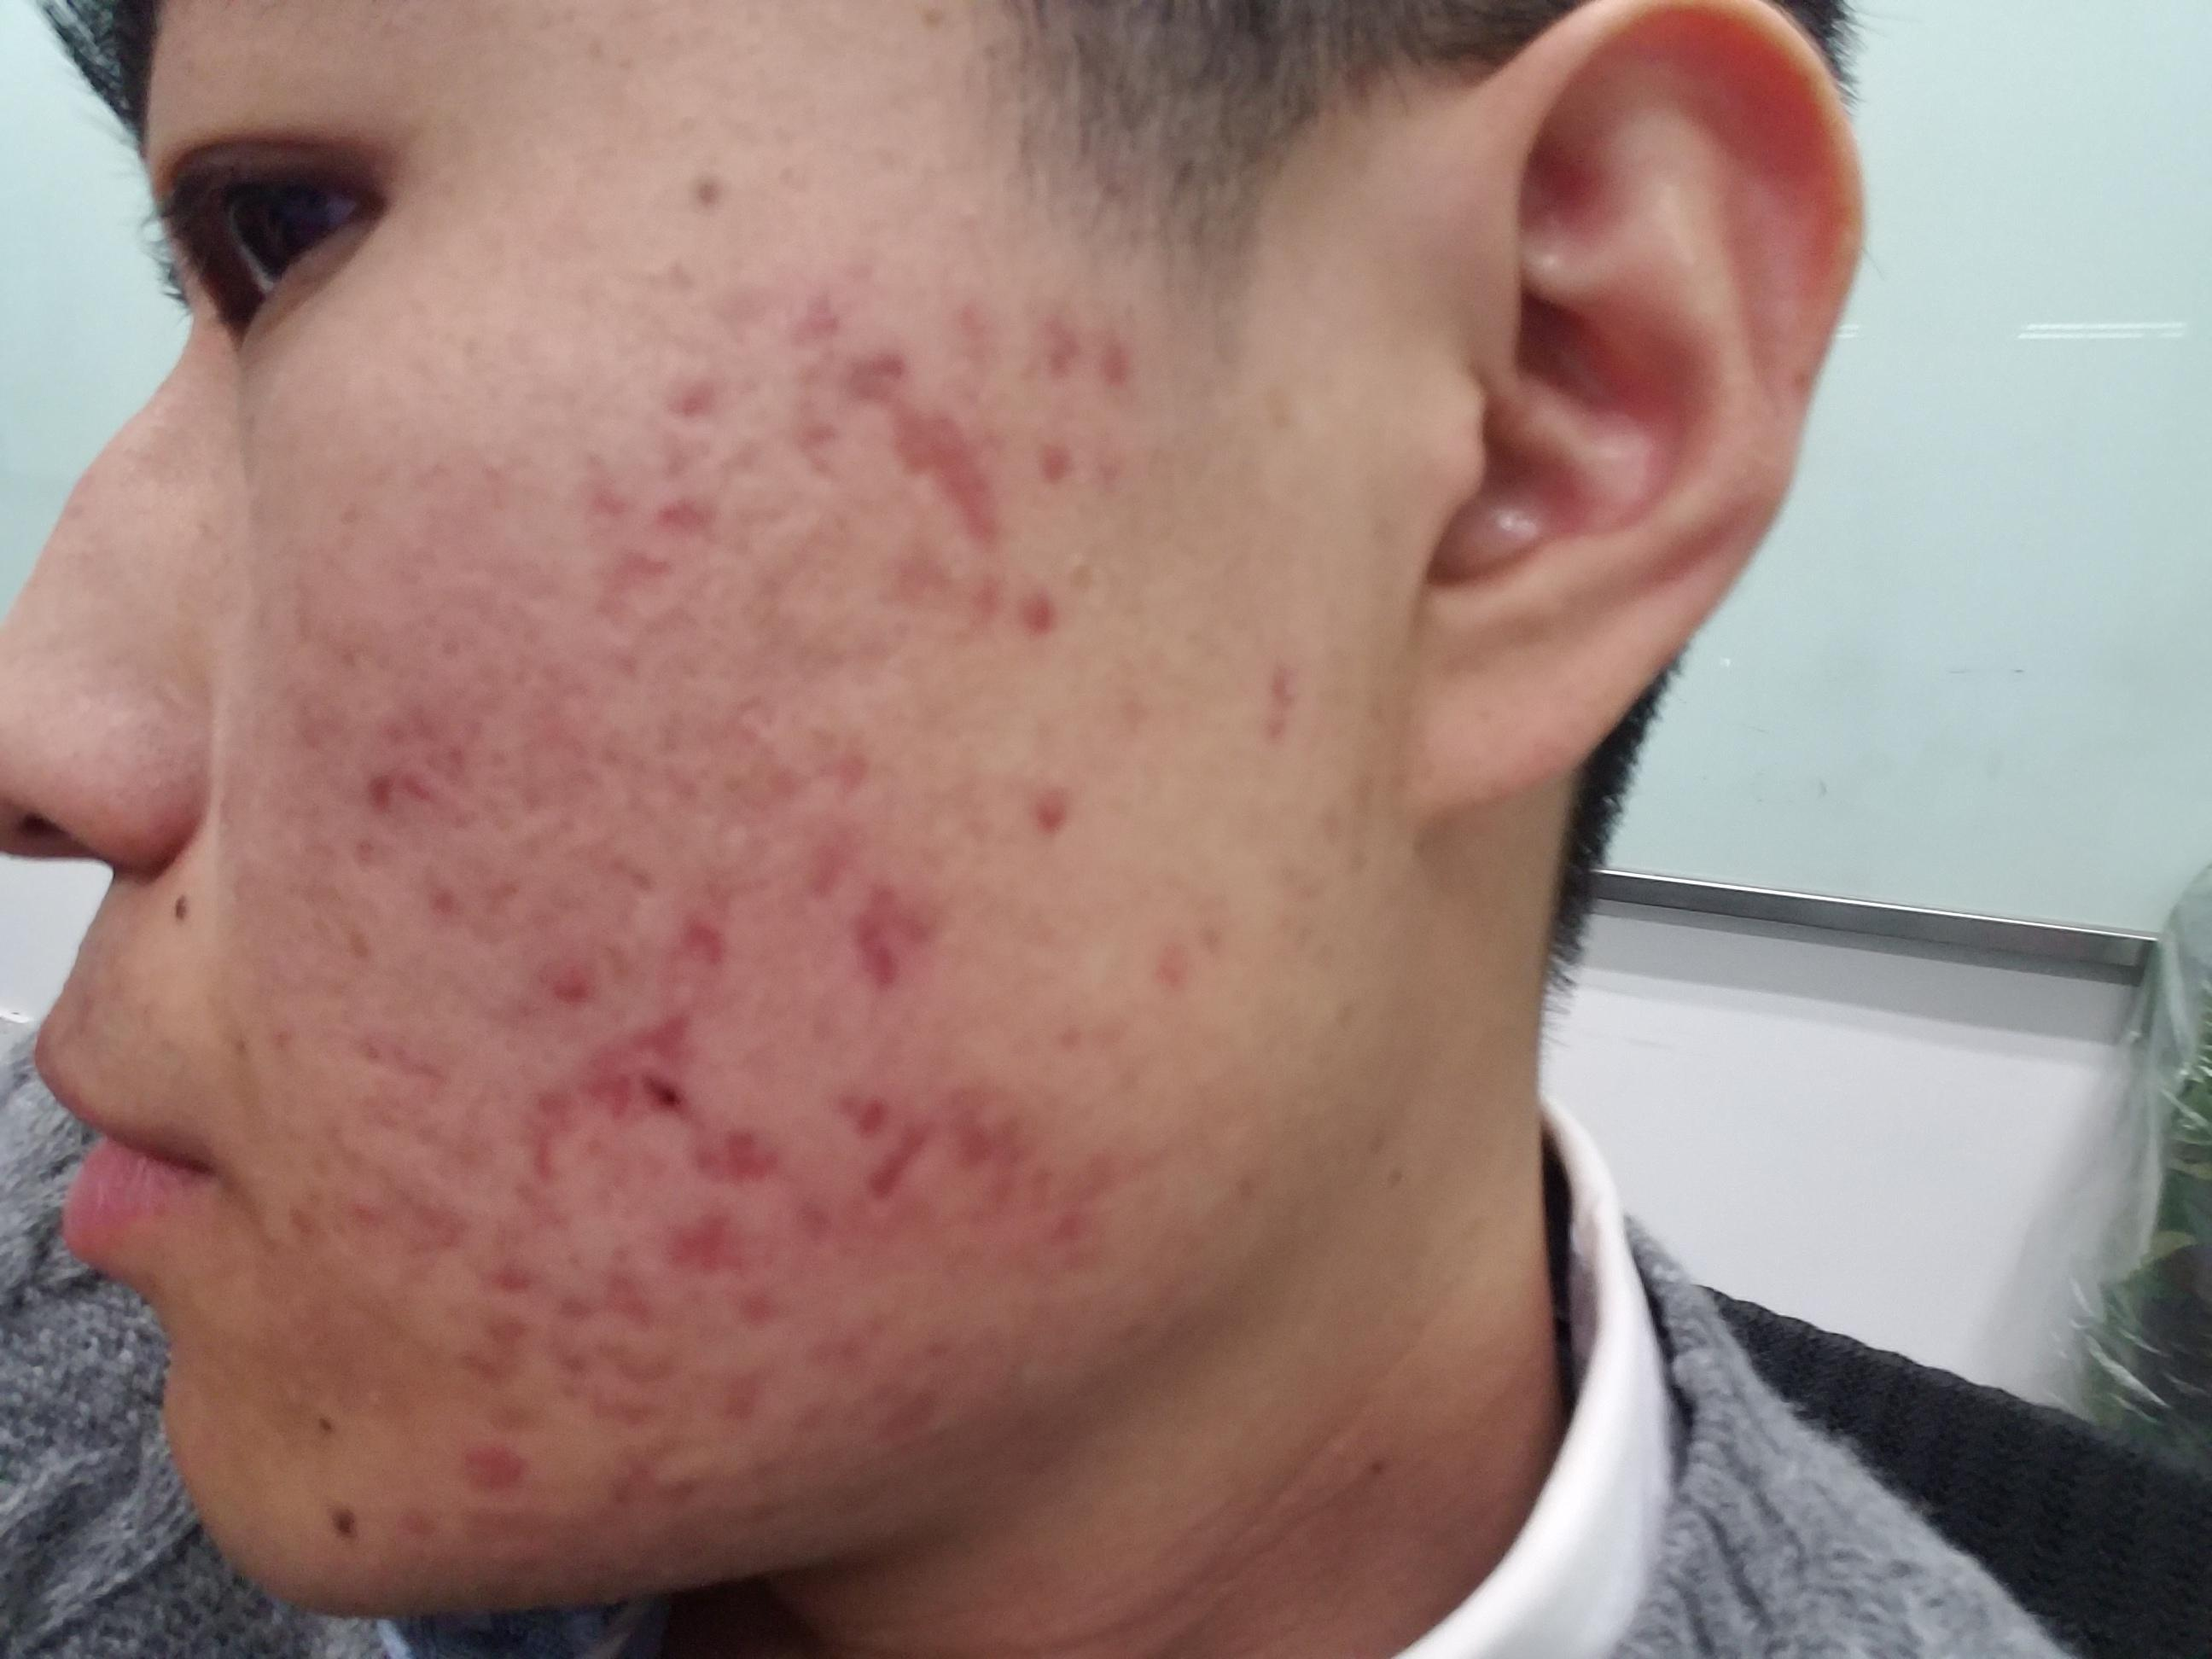fore: (1106, 920, 1223, 1032), (441, 1073, 571, 1171), (810, 890, 965, 972), (681, 1119, 819, 1204), (327, 751, 455, 833), (662, 901, 763, 1002), (545, 1312, 636, 1417), (650, 1201, 754, 1290), (594, 504, 683, 605), (803, 1300, 900, 1391), (1064, 272, 1148, 373), (399, 692, 496, 777), (1219, 643, 1320, 725), (1024, 1161, 1113, 1249), (683, 1368, 789, 1439), (838, 1148, 923, 1234), (759, 281, 855, 355), (362, 1175, 467, 1243), (632, 1044, 718, 1126), (780, 1084, 890, 1145), (455, 1429, 542, 1504), (1028, 422, 1118, 493), (587, 1243, 669, 1321), (643, 483, 728, 556), (796, 824, 873, 903), (362, 1021, 444, 1093), (460, 1317, 556, 1377), (542, 939, 617, 1014), (489, 1223, 568, 1293), (723, 1483, 803, 1551), (334, 817, 408, 890), (1036, 1006, 1111, 1077), (874, 1377, 956, 1439), (833, 326, 904, 396), (646, 1448, 721, 1514), (942, 457, 1005, 535), (477, 979, 554, 1040), (1014, 291, 1073, 366), (826, 739, 890, 807), (636, 999, 714, 1054), (575, 1028, 632, 1103), (273, 1192, 343, 1253), (669, 373, 721, 448), (930, 275, 979, 355), (878, 552, 956, 601), (333, 918, 394, 976), (1010, 591, 1069, 643), (986, 788, 1047, 833), (418, 878, 475, 925), (968, 552, 998, 620), (920, 404, 965, 444), (975, 1107, 1017, 1148)
